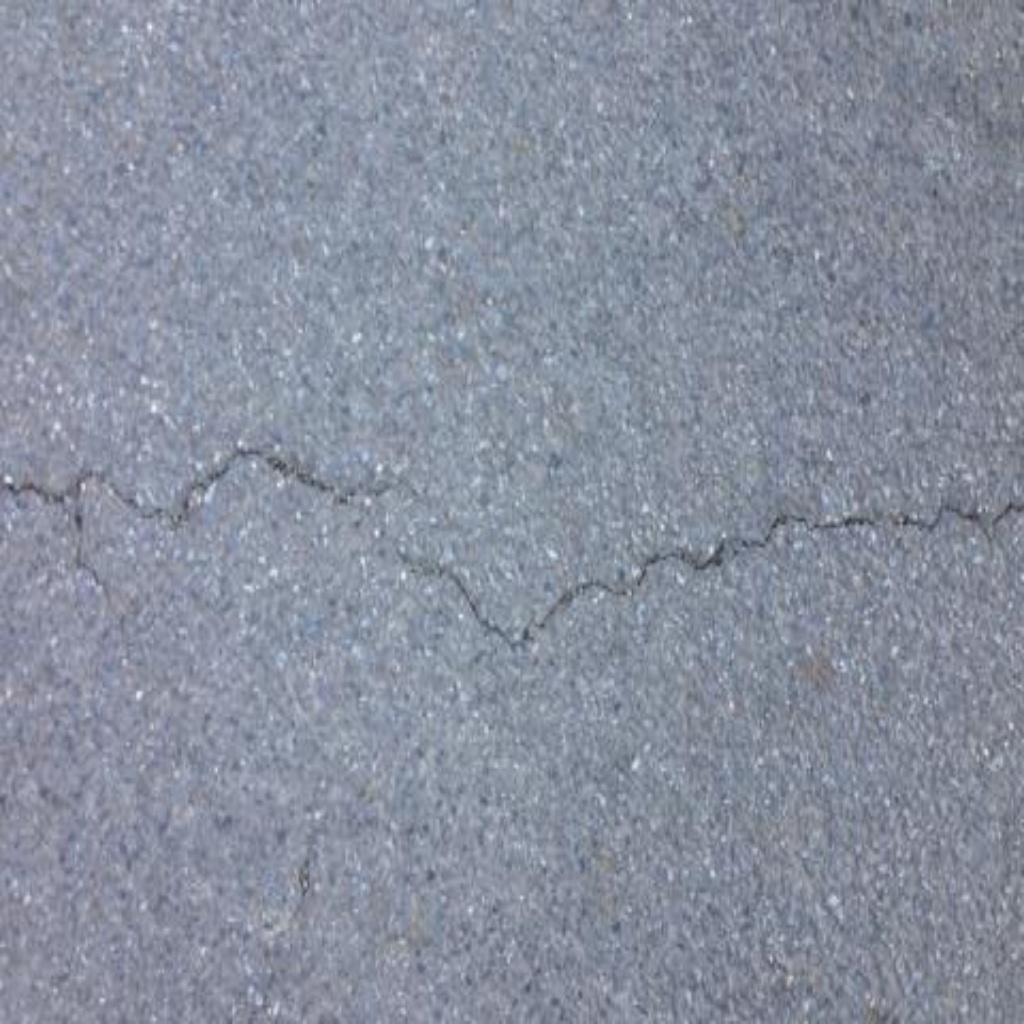Crack: (392, 500, 1024, 654), (1, 448, 394, 534)
